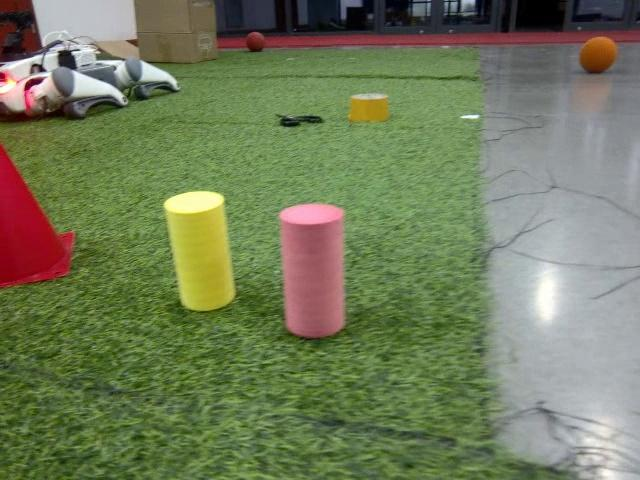red_barrel: (0, 140, 77, 289), (581, 35, 619, 74)
red_cylinder: (275, 199, 352, 340)
yellow_cylinder: (162, 188, 238, 312)
